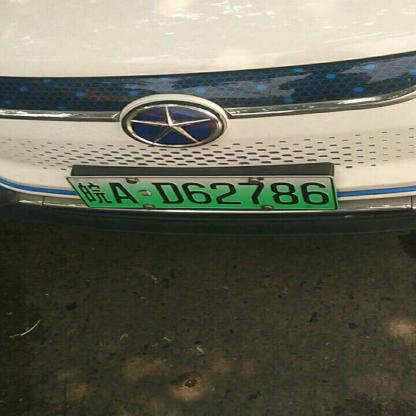lp: (68, 178, 335, 209)
